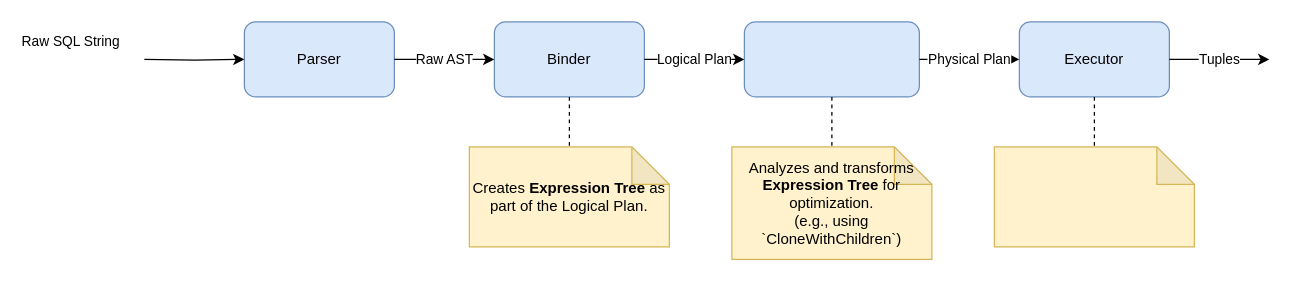
This 1301x281 diagram has some shape labels left out. The shapes that lost their labels are listed below. From the top down, each one's centre as x and y in pixels, then its label:
At point (831, 59): "Planner / Optimizer".
At point (1093, 196): "Calls ` Evaluate() ` on the final Expression Tree to filter tuples.".
